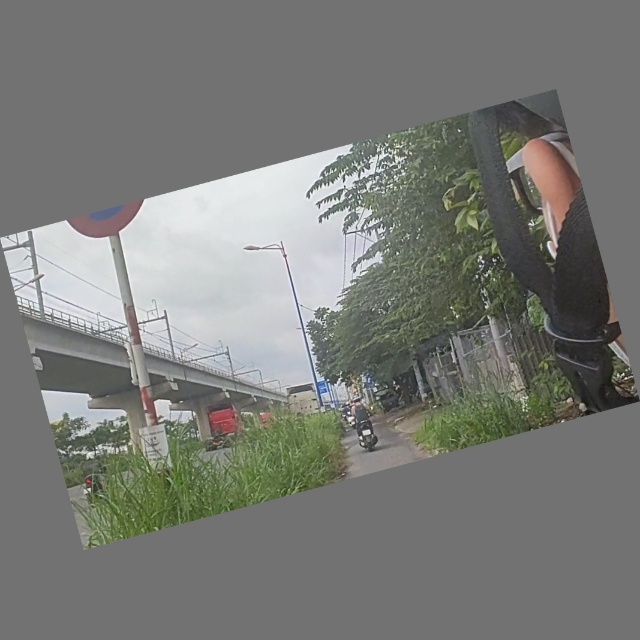I.409: (365, 375, 377, 387)
